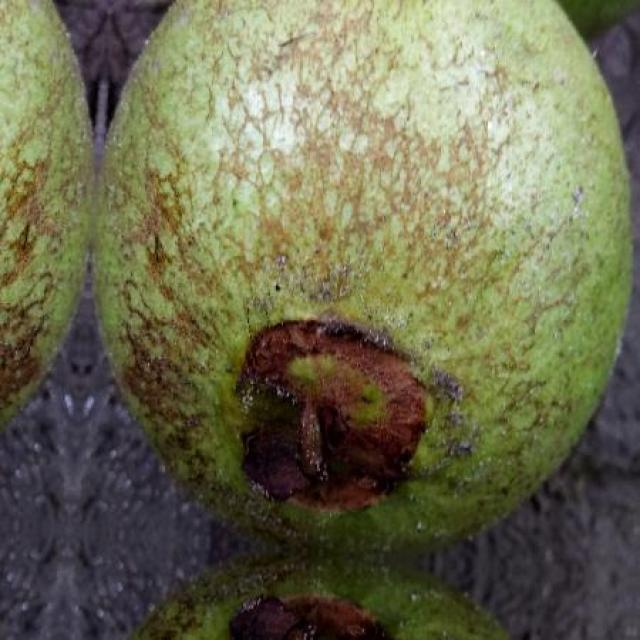Scab: (96, 0, 630, 549)
